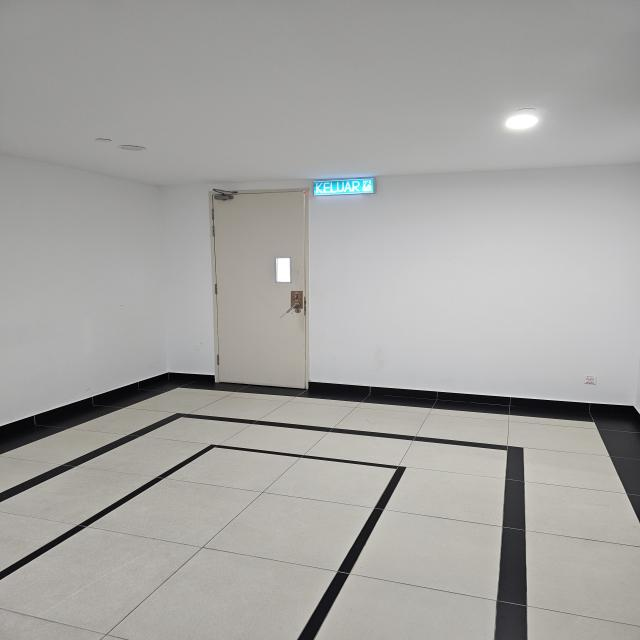door: (210, 188, 311, 391)
footpath: (46, 409, 640, 640)
